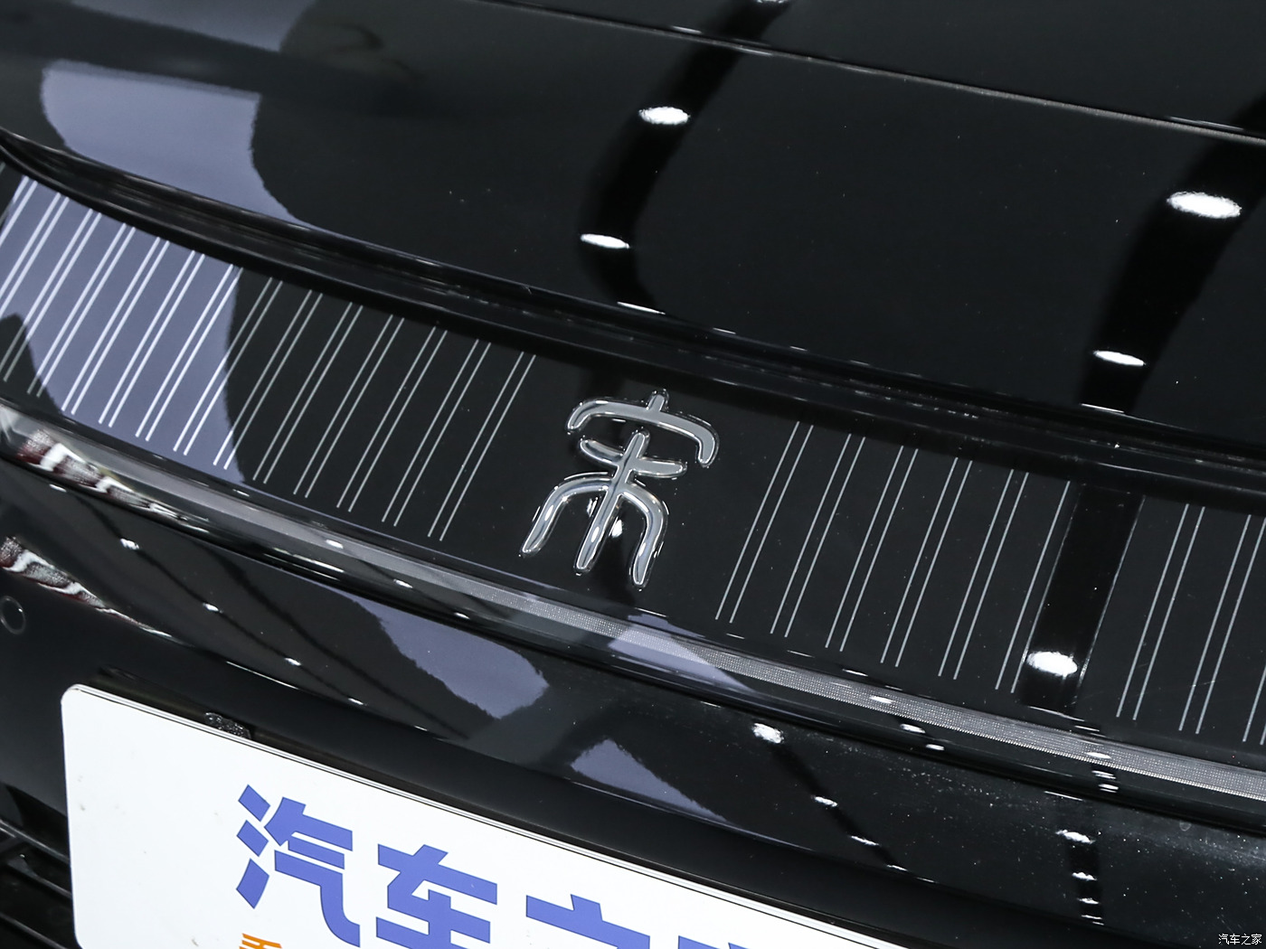BYD Song: (523, 395, 715, 587)
